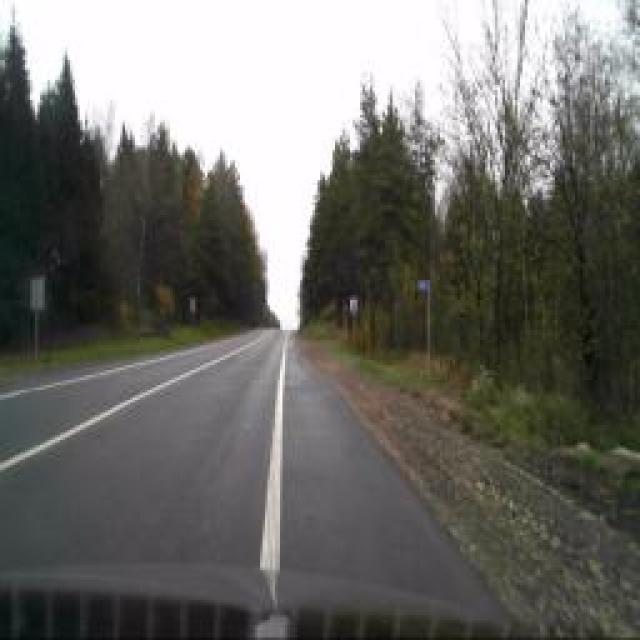sign: (349, 295, 359, 317)
